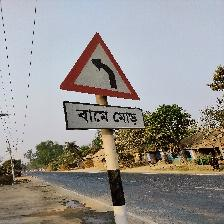Left-Turn: (60, 33, 144, 131)
